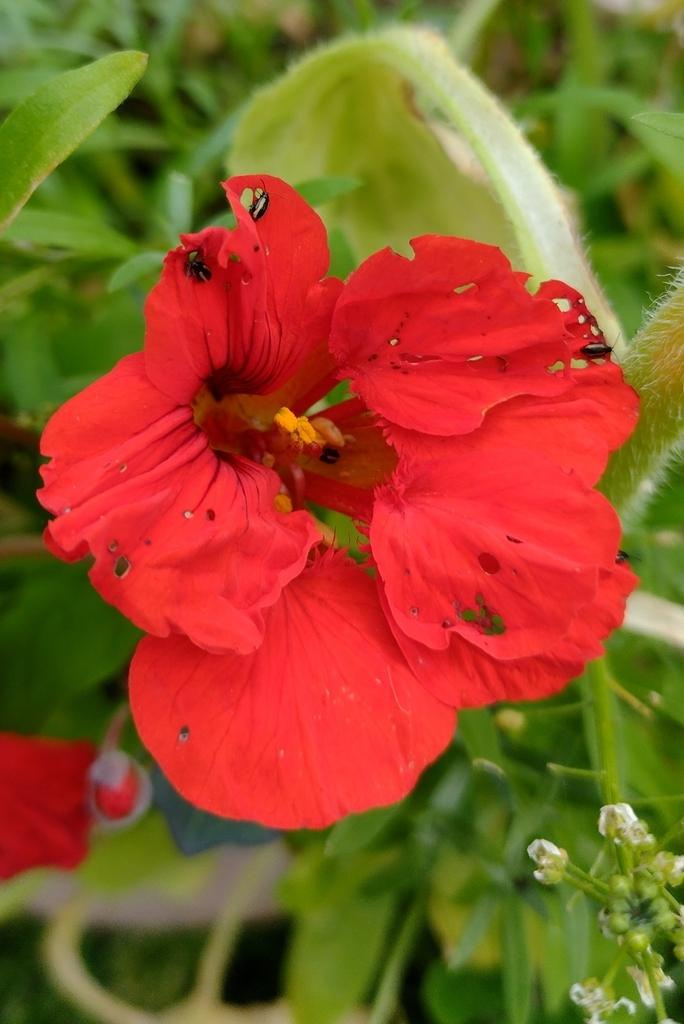flea_beetle: (572, 323, 627, 369), (244, 173, 286, 231)
